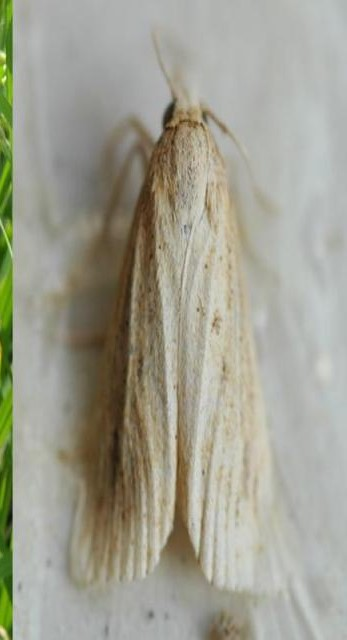yellow-stem-borer: (47, 24, 290, 602)
